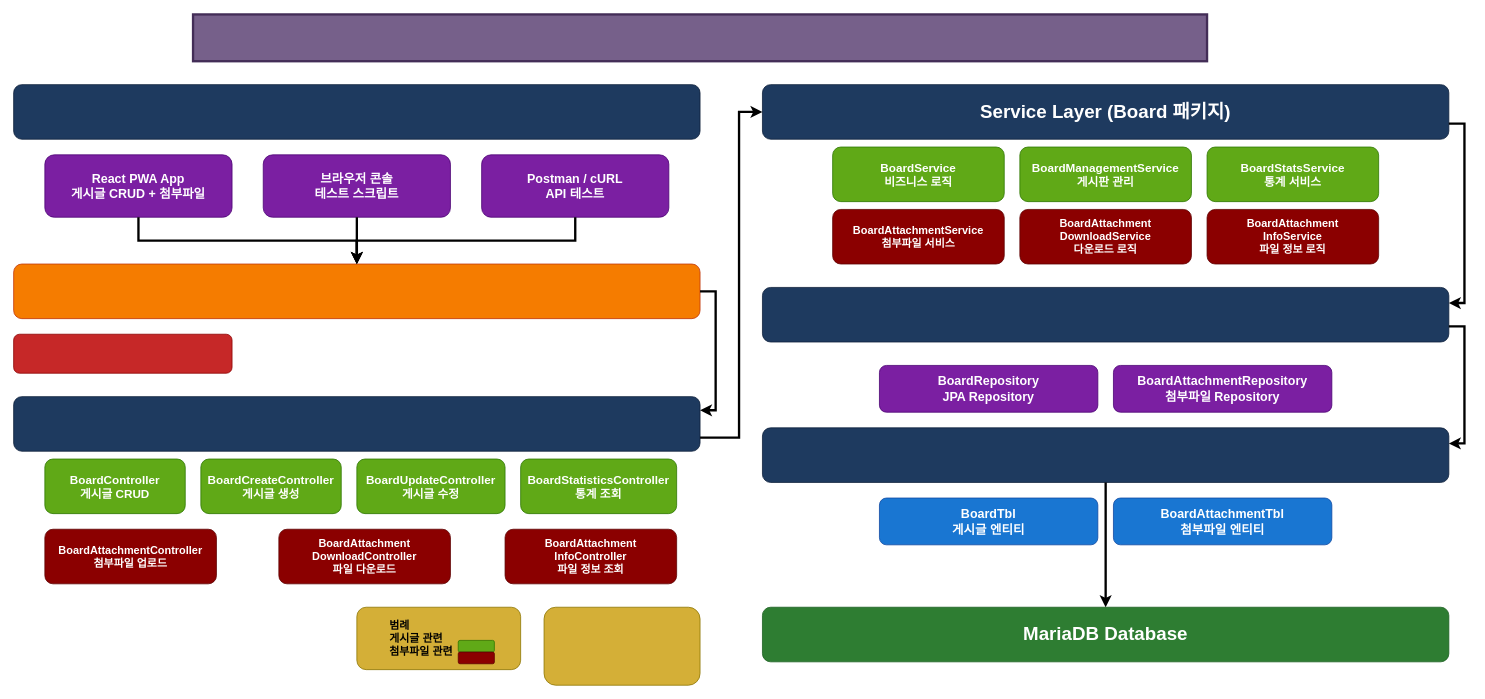
The diagram is 1485 pixels wide and 699 high, and some of its shapes have lost their labels. The shapes that lost their labels are listed below. From the top down, each one's centre as x and y in pixels, then its label:
At (699,37): "01. Blue-Crab LMS 게시판 시스템 아키텍처".
At (356,111): "클라이언트 레이어".
At (356,291): "Spring Boot REST API Gateway".
At (1105,314): "Repository Layer (Board 패키지)".
At (122,353): "JWT Bearer Token 인증".
At (356,423): "Controller Layer (Board 패키지)".
At (1105,454): "Entity Layer (Board 패키지)".
At (621,645): "📋 게시판 타입 0: 학사공지 1: 행정공지 2: 기타공지 3: 강의공지".
